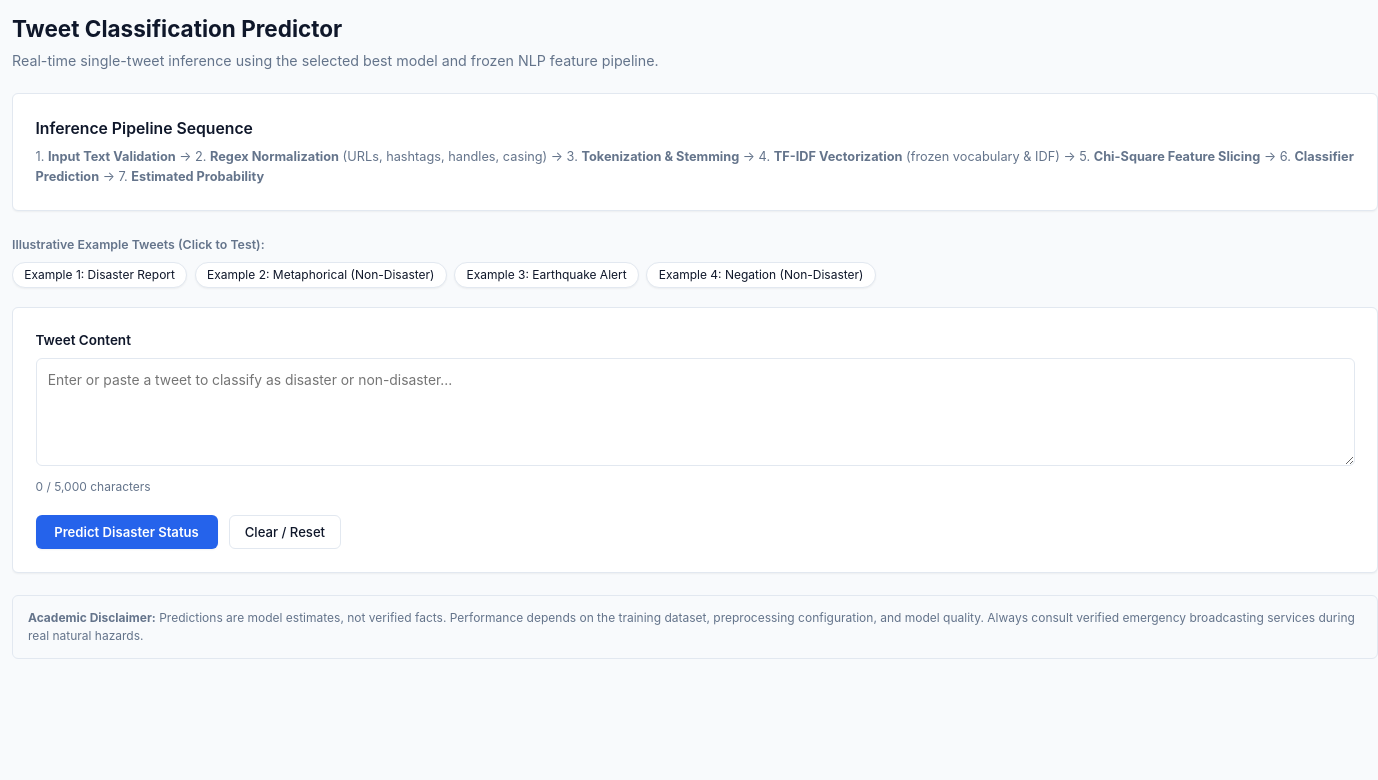
Test: Prediction Page Component Tests (T16) › shows client validation error when clicking Predict with empty input
expect the heading "Tweet Classification Predictor" is shown: met, box [12, 15, 342, 42]
Click the button "Predict Disaster Status": (126,532) [36, 515, 218, 549]
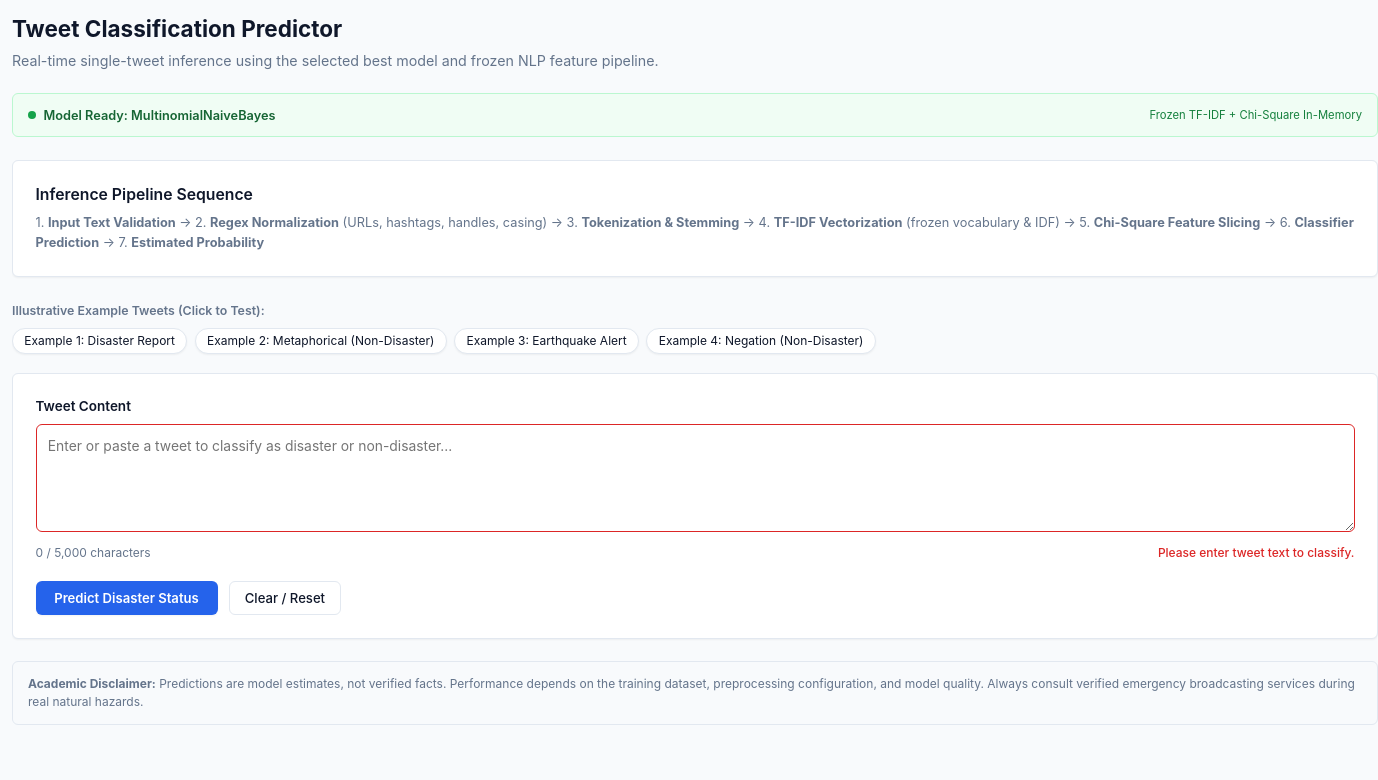
expect the text "Please enter tweet text to classify." is shown: met, box [1158, 544, 1354, 562]
